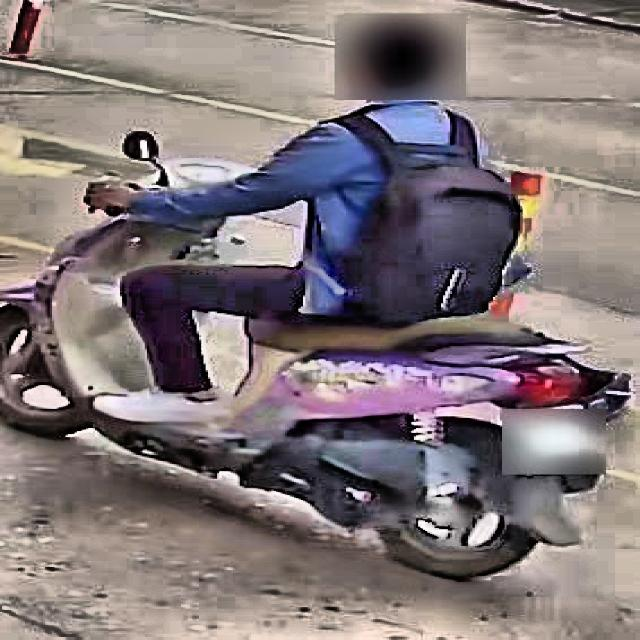motorcycle: (13, 119, 640, 593)
